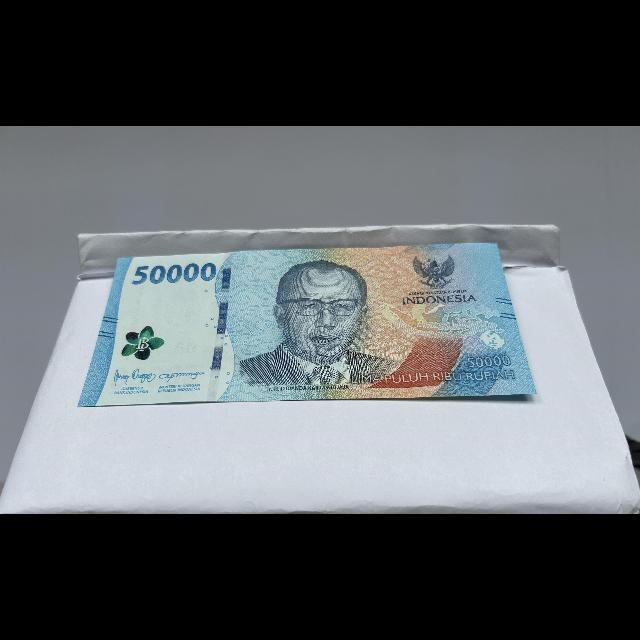Asli-50k: (71, 240, 540, 408)
Tinta-Asli-50k: (119, 320, 171, 367)
